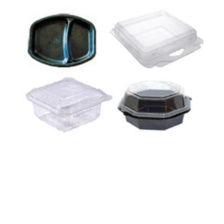plastic_box: (105, 4, 211, 70), (19, 73, 116, 136), (113, 74, 198, 135), (24, 6, 102, 72)
